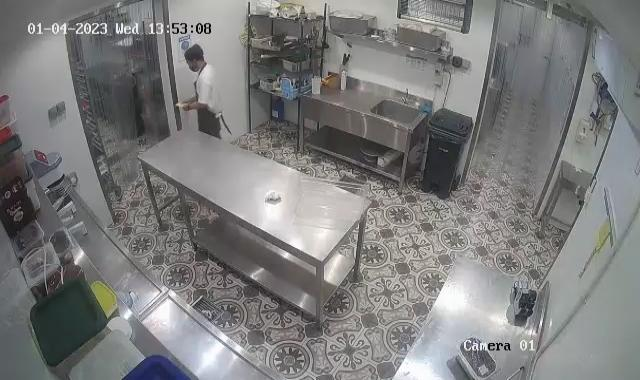no_hairnet: (184, 45, 204, 69)
